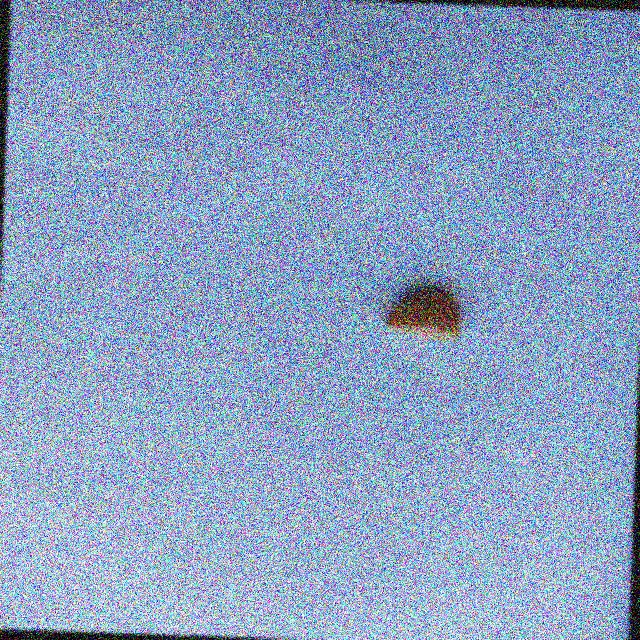grade4: (376, 280, 469, 346)
